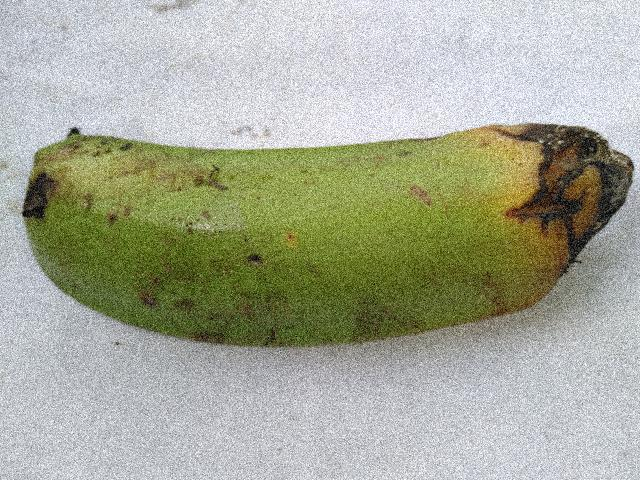rotten: (448, 126, 639, 290), (0, 148, 81, 234)
unripe: (23, 95, 500, 374)
